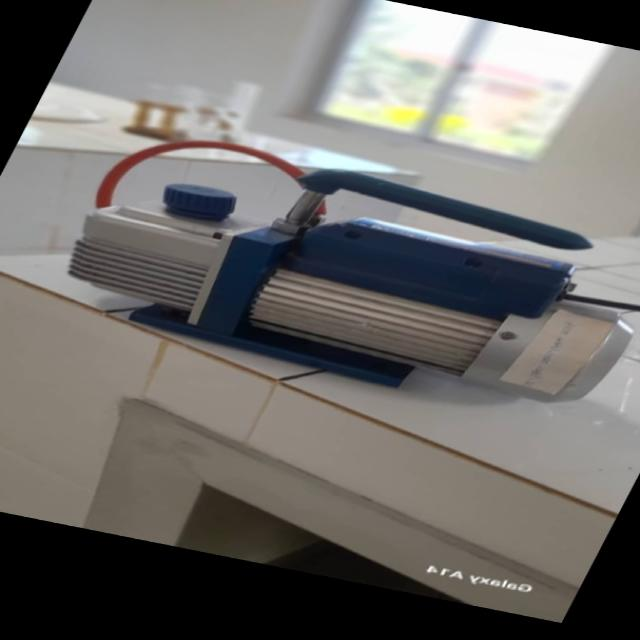Vacuum Pump: (0, 110, 640, 433)
